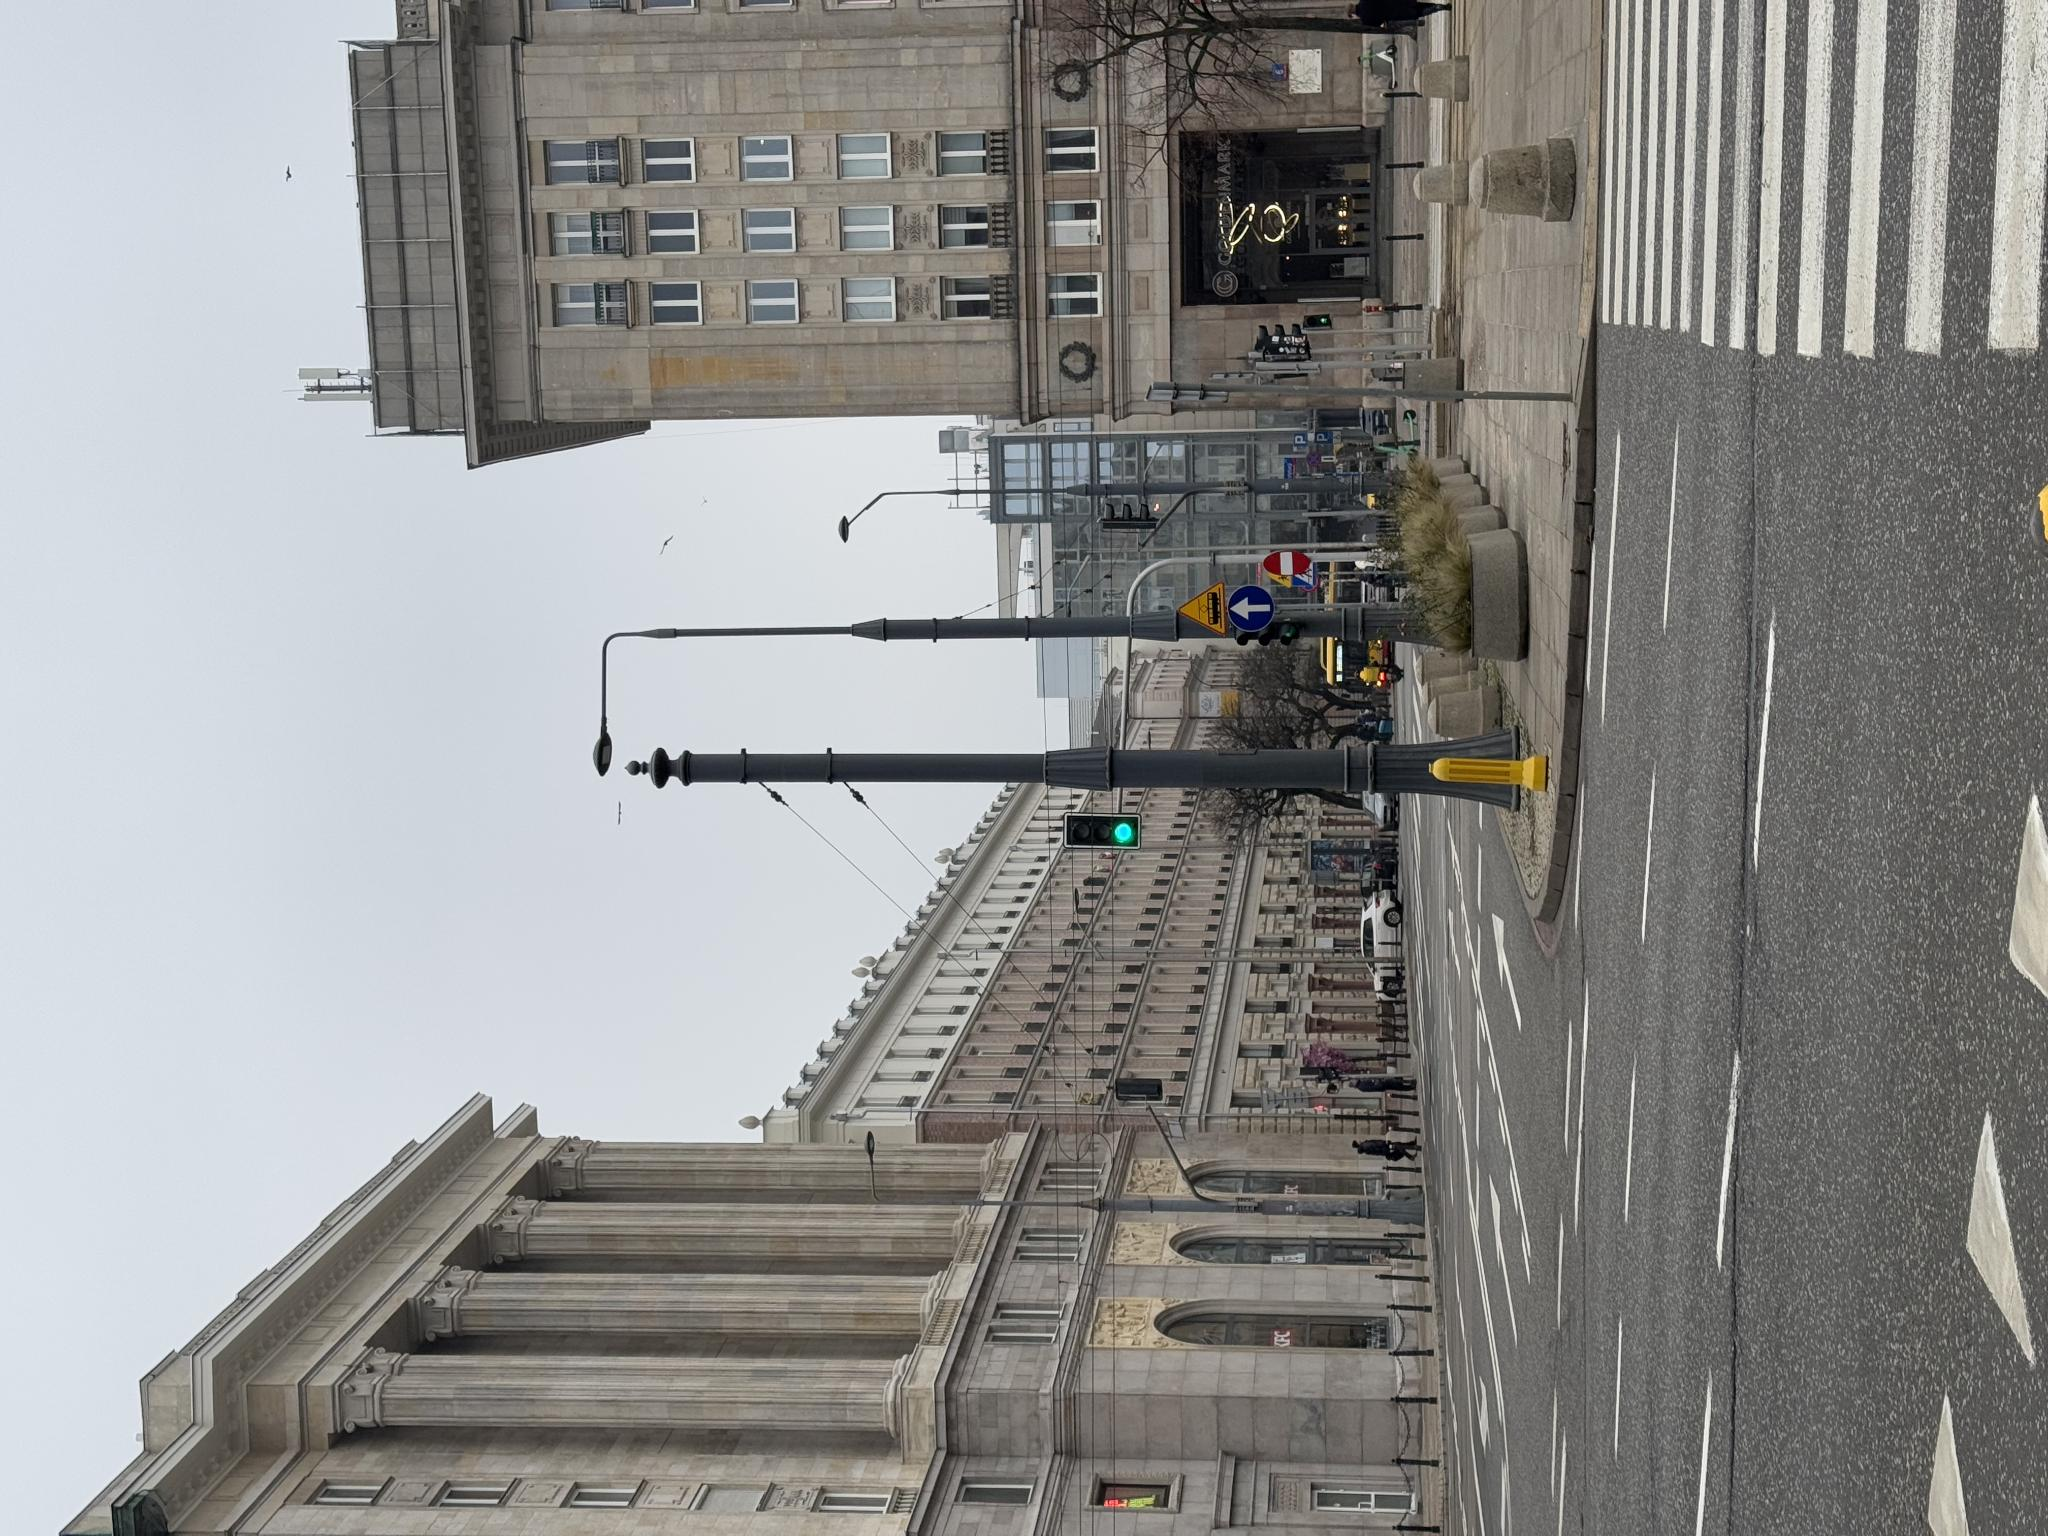information: (1092, 1313, 1106, 1333), (1089, 1292, 1103, 1307)
mandatory: (903, 1226, 951, 1276)
prohibitory: (959, 1263, 987, 1312), (1069, 1305, 1085, 1321)
warning: (901, 1176, 953, 1225)
